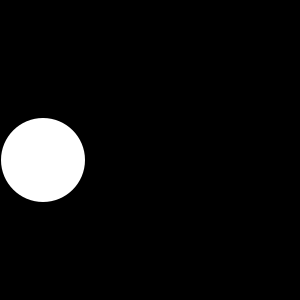rectangle: (1, 118, 85, 202)
